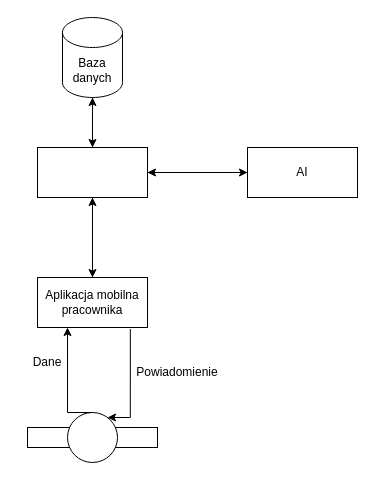
Some shapes in this 375 by 480 pixel diagram are drawn without their labels. Each missing label, with the centre of its shape:
Api: (92,172)
Opaska: (92,437)
